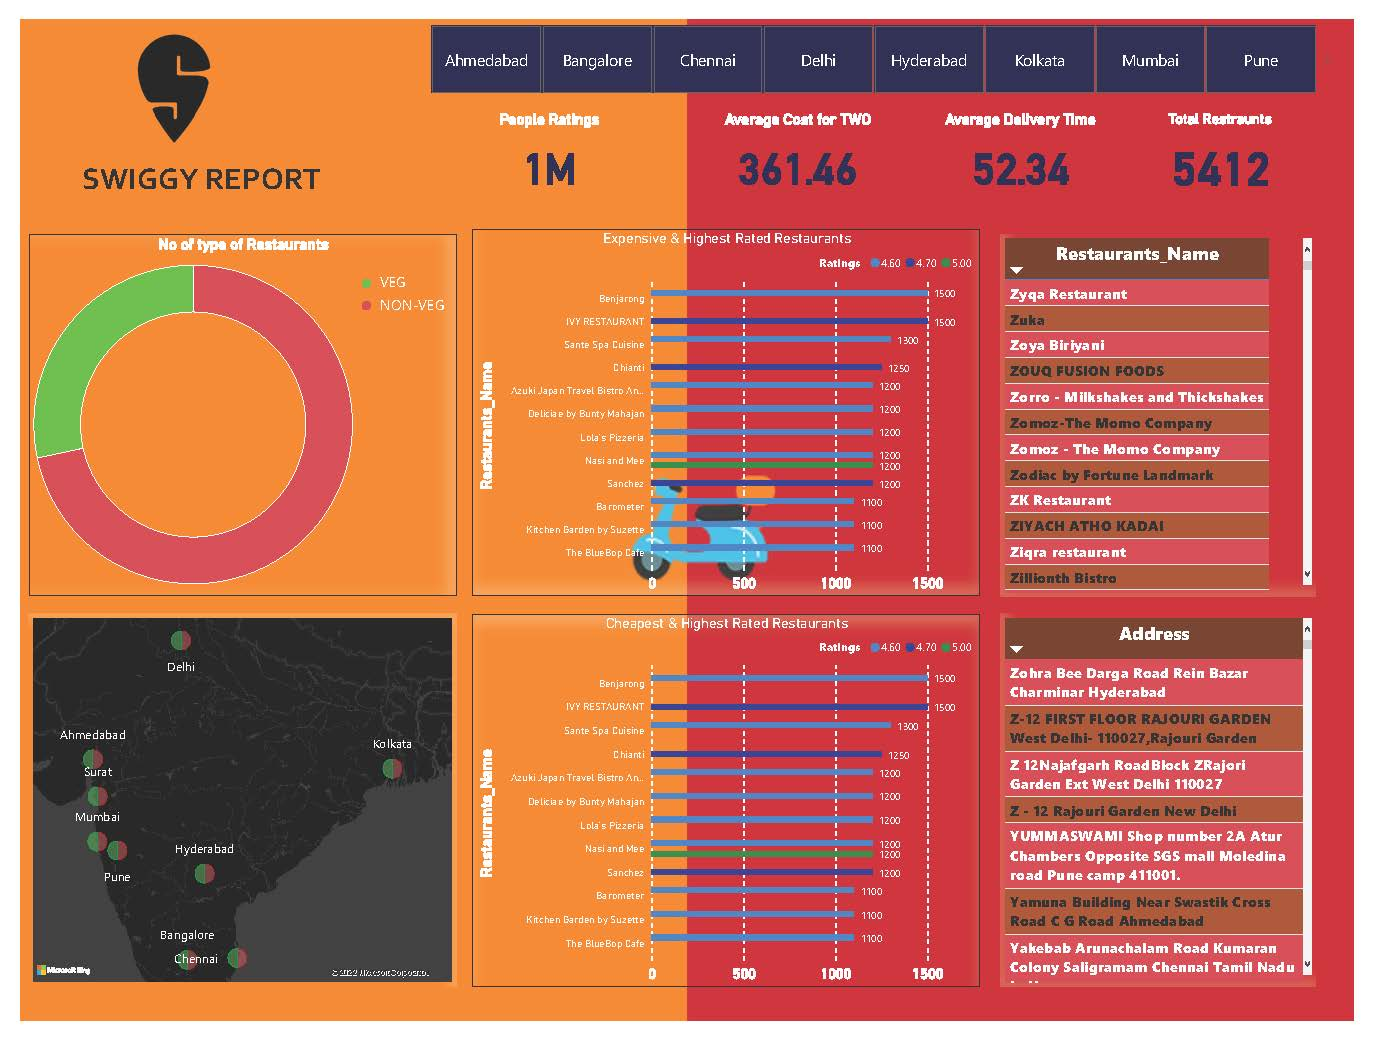

Layout of this report page (visuals, bound fields, positions):
{"tool":"powerbi","page":{"name":"Page 1","canvas":[1600,1200],"ordinal":0},"visuals":[{"type":"slicer","fields":{"Values":["Swiggy.city"]},"box":[468,0,1110,94],"z":0},{"type":"card","title":"Total Restraunts","fields":{"Values":["Swiggy.name"]},"box":[1326,108,228,108],"z":1000},{"type":"map","fields":{"Category":["Swiggy.city"],"Series":["Swiggy.TYPE"]},"box":[10.6,712.8,512.8,446.8],"z":2000},{"type":"card","title":"Average Delivery Time","fields":{"Values":["Swiggy.deliveryTime"]},"box":[1089.4,108.5,221.3,108.5],"z":3000},{"type":"card","title":"Average Cost for TWO","fields":{"Values":["Swiggy.Cost_For_Two"]},"box":[821.3,108.5,223.4,108.5],"z":4000},{"type":"tableEx","title":"Res","fields":{"Values":["Swiggy.name"]},"box":[1176.6,257.4,376.6,434],"z":5000},{"type":"clusteredBarChart","title":"Cheapest & Highest Rated Restaurants ","fields":{"Category":["Swiggy.Restaurants_Name"],"Series":["Swiggy.Ratings"],"Y":["Swiggy.Cost_For_Two"]},"box":[542.6,712.8,608.5,446.8],"z":6000},{"type":"Sunburst1445472000808","title":"No of type of Restaurants","fields":{"Nodes":["Swiggy.TYPE"],"Values":["Swiggy.Restaurants_Name"]},"box":[10.6,257.4,512.8,434],"z":7000},{"type":"textbox","box":[2.1,161.7,363.8,85.1],"z":8000},{"type":"card","title":"People Ratings","fields":{"Values":["Swiggy.No_of_People Rated"]},"box":[523.4,108.5,223.4,108.5],"z":9000},{"type":"clusteredBarChart","title":"Expensive & Highest Rated Restaurants ","fields":{"Category":["Swiggy.Restaurants_Name"],"Series":["Swiggy.Ratings"],"Y":["Swiggy.Cost_For_Two"]},"box":[542.6,251.1,608.5,440.4],"z":10000},{"type":"image","box":[2.1,0,363.8,163.8],"z":11000},{"type":"tableEx","title":"Res","fields":{"Values":["Swiggy.address"]},"box":[1176.6,712.8,376.6,446.8],"z":12000}]}

Visuals, with their boxes on the page's 1600x1200 design canvas (x1, y1, x2, y2). These are canvas units, not pixel positions in the 1374x1040 screenshot, which may show the page scaled, cropped or inside an application window:
slicer - Swiggy.city: box(468, 0, 1578, 94)
"Total Restraunts" card: box(1326, 108, 1554, 216)
map - Swiggy.city x Swiggy.TYPE: box(11, 713, 523, 1160)
"Average Delivery Time" card: box(1089, 108, 1311, 217)
"Average Cost for TWO" card: box(821, 108, 1045, 217)
"Res" tableEx: box(1177, 257, 1553, 691)
"Cheapest & Highest Rated Restaurants " clusteredBarChart: box(543, 713, 1151, 1160)
"No of type of Restaurants" Sunburst1445472000808: box(11, 257, 523, 691)
textbox: box(2, 162, 366, 247)
"People Ratings" card: box(523, 108, 747, 217)
"Expensive & Highest Rated Restaurants " clusteredBarChart: box(543, 251, 1151, 692)
image: box(2, 0, 366, 164)
"Res" tableEx: box(1177, 713, 1553, 1160)
